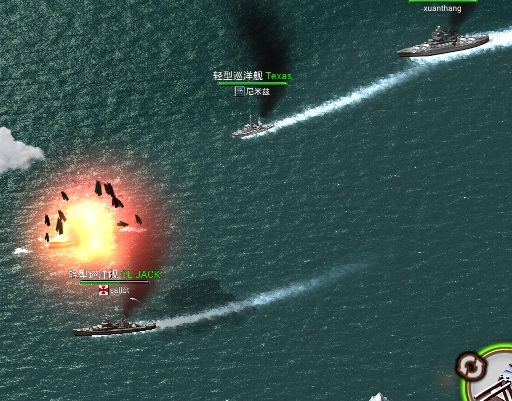ship: (396, 33, 490, 61), (72, 318, 158, 336), (229, 119, 273, 139)
